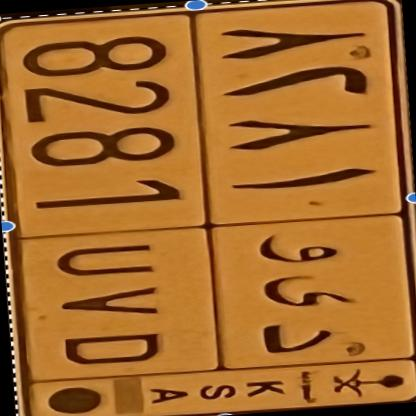english: (0, 7, 239, 390)
